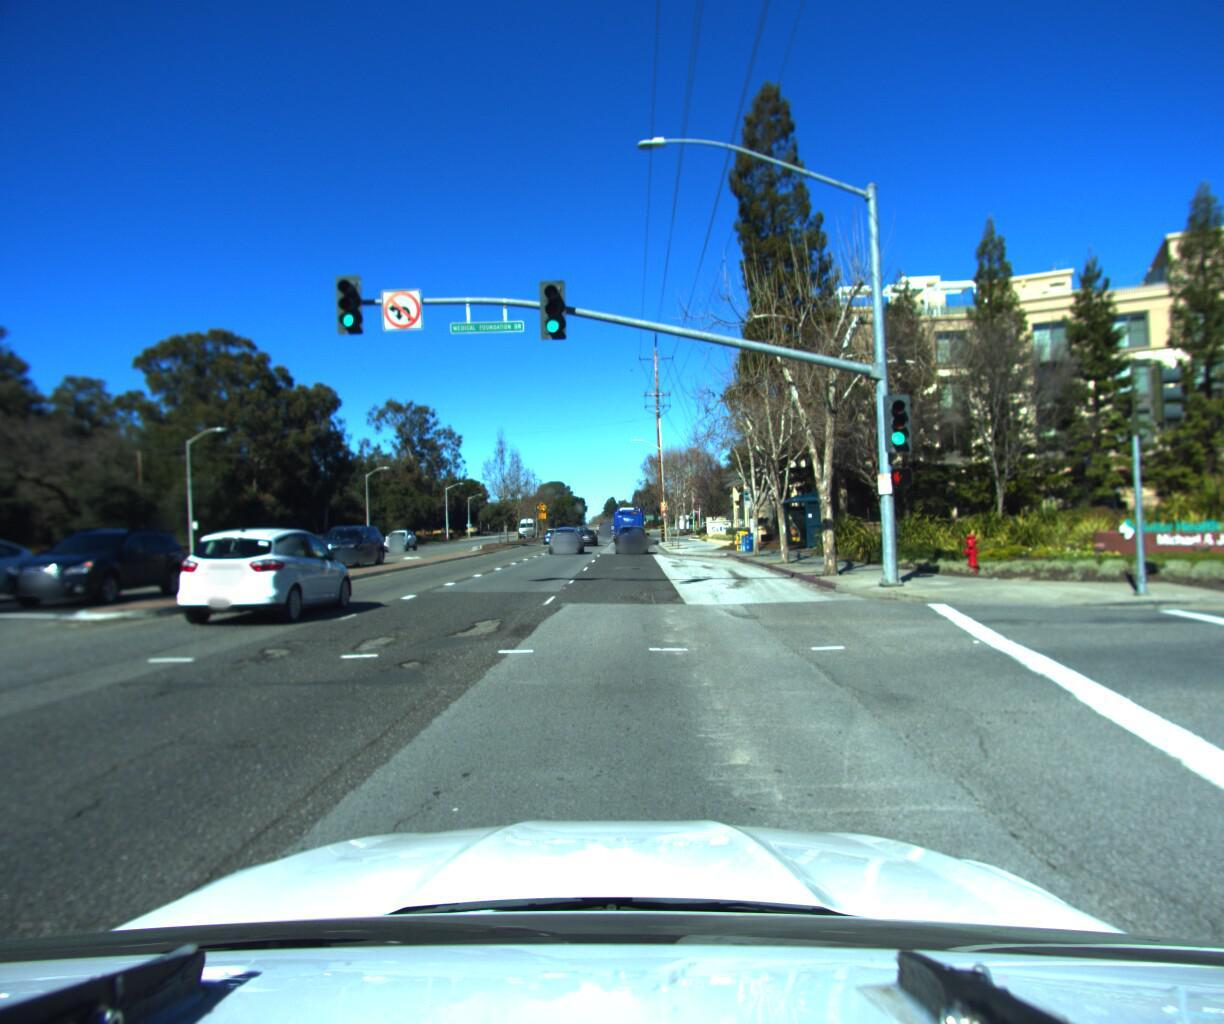bus: (611, 501, 648, 542)
car: (179, 521, 374, 627), (301, 523, 395, 569), (545, 524, 586, 553), (613, 521, 649, 552), (383, 526, 423, 550), (576, 524, 600, 542)
